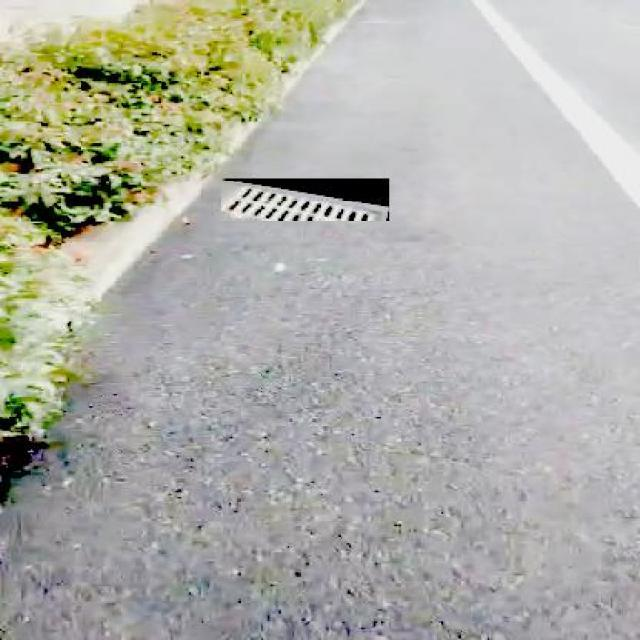Manhole: (220, 178, 389, 220)
